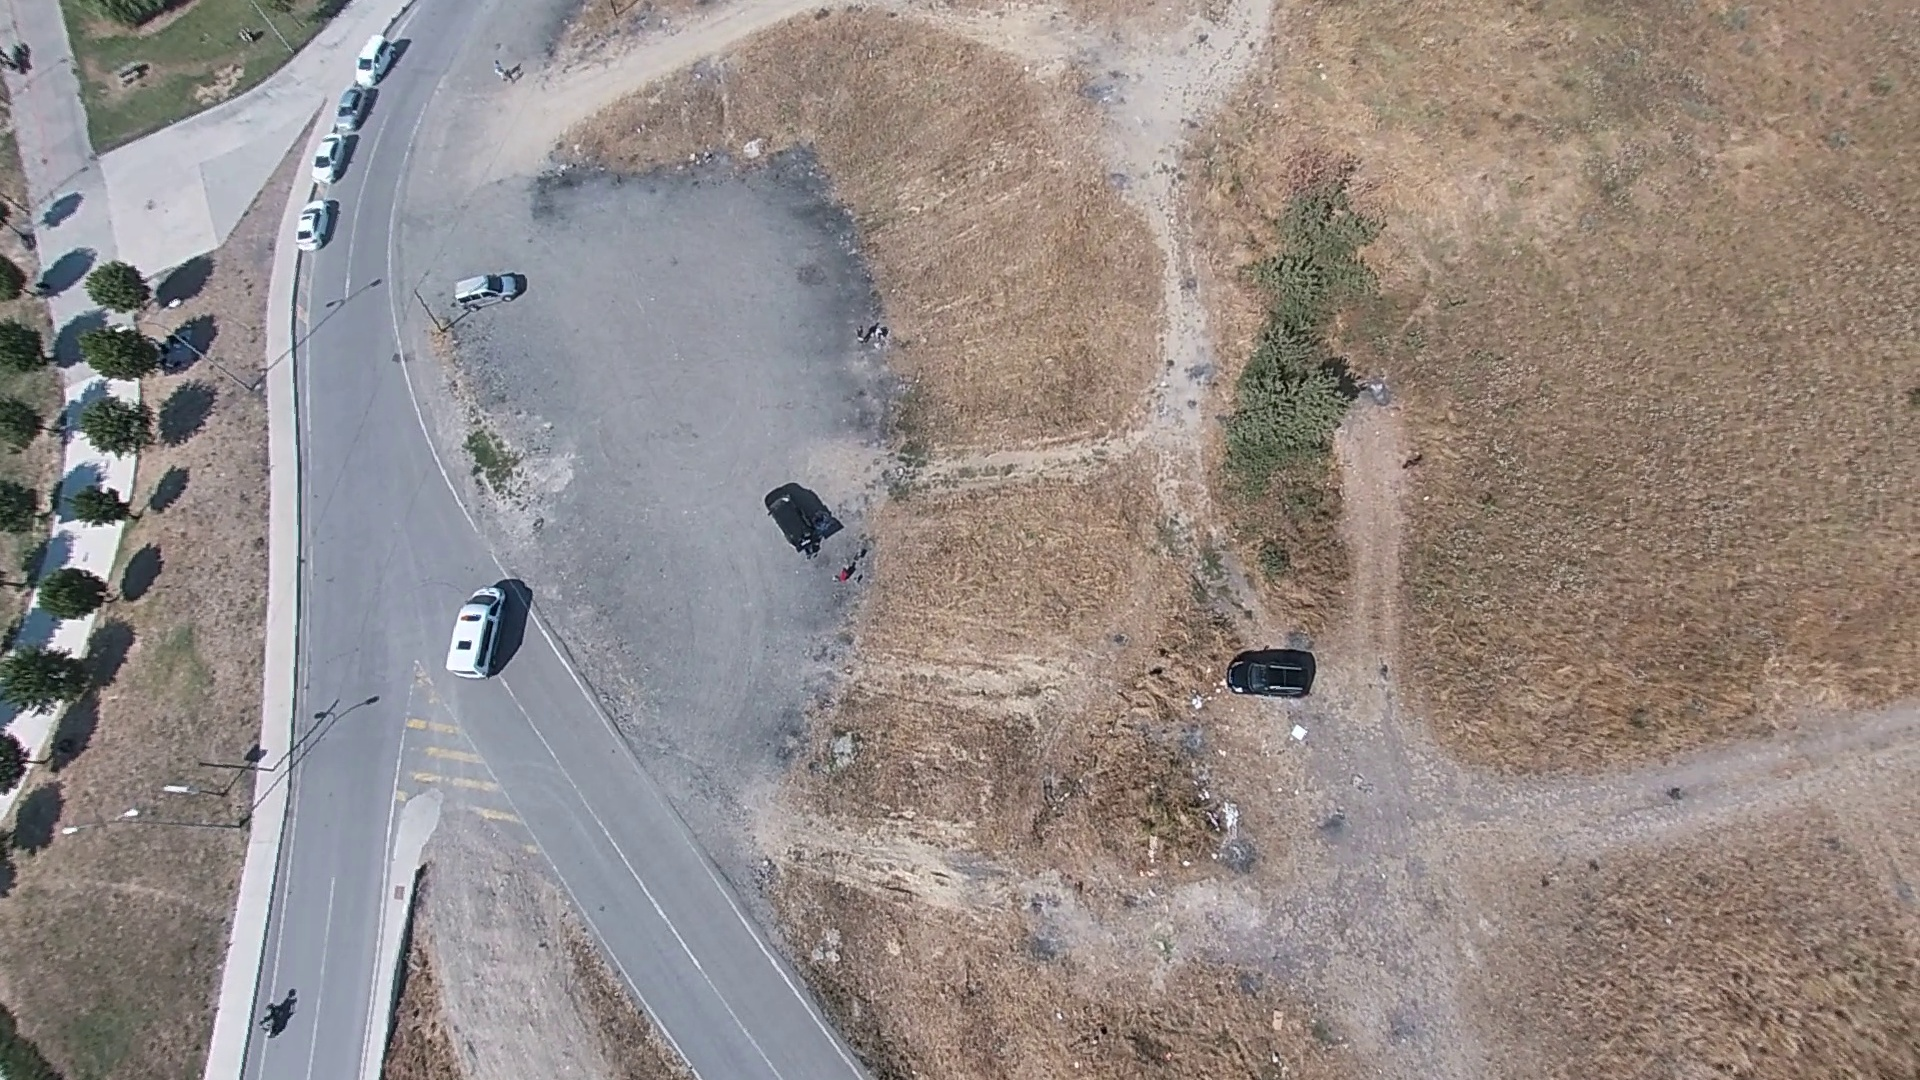araba: (444, 585, 518, 682), (766, 481, 838, 555), (1222, 651, 1316, 700), (447, 267, 525, 315), (356, 29, 402, 85), (306, 126, 347, 189), (295, 197, 339, 248), (333, 82, 373, 130)
insan: (497, 61, 511, 88)
